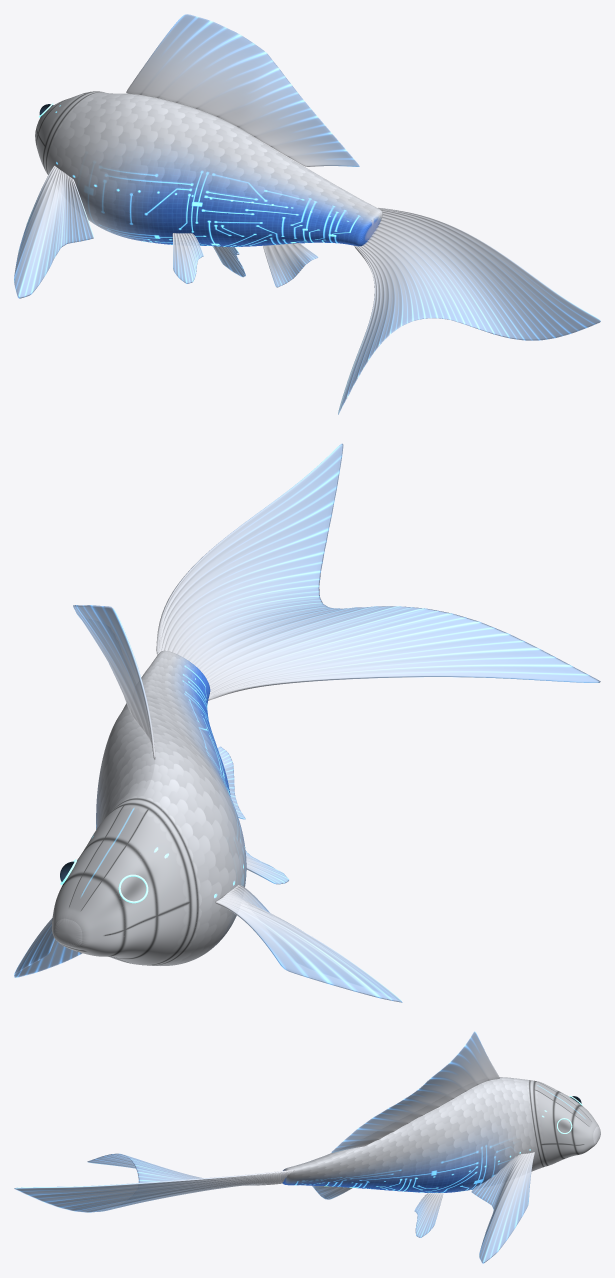
Rendered from cyberfish_posed.glb.
3 renders of one model, top to bottom at view 1: azimuth 30°, elevation 25°; view 2: azimuth 150°, elevation 25°; view 3: azimuth 270°, elevation 25°, orthographic. The views are drawn at different scales.
Visible parts, largest first — view 1: CF_Body, CF_FinTail, CF_FinDorsal, CF_FinPectoral.R, CF_FinAnal, CF_FinPelvic.R, CF_FinPelvic.L; view 2: CF_FinTail, CF_Body, CF_FinPectoral.R, CF_FinDorsal, CF_FinPectoral.L; view 3: CF_Body, CF_FinTail, CF_FinDorsal, CF_FinPectoral.L, CF_FinPelvic.L, CF_FinAnal.
Boxes of the visible parts, box(x1,y1,x2,y2) form: CF_Body: box(35, 91, 382, 246); CF_FinTail: box(338, 207, 600, 414); CF_FinDorsal: box(126, 14, 359, 166); CF_FinPectoral.R: box(14, 165, 93, 298); CF_FinAnal: box(263, 243, 318, 287); CF_FinPelvic.R: box(172, 233, 203, 283); CF_FinPelvic.L: box(213, 246, 245, 277); CF_FinTail: box(156, 443, 600, 700); CF_Body: box(52, 650, 246, 965); CF_FinPectoral.R: box(215, 885, 402, 1002); CF_FinDorsal: box(73, 605, 155, 759); CF_FinPectoral.L: box(14, 918, 81, 977); CF_Body: box(282, 1077, 600, 1192); CF_FinTail: box(14, 1153, 294, 1212); CF_FinDorsal: box(331, 1031, 499, 1152); CF_FinPectoral.L: box(471, 1152, 534, 1263); CF_FinPelvic.L: box(414, 1193, 443, 1237); CF_FinAnal: box(312, 1185, 352, 1199).
Bounding box in the file's own units: 3.4 × 2.69 × 6.86.
5 materials, 3 textured.
